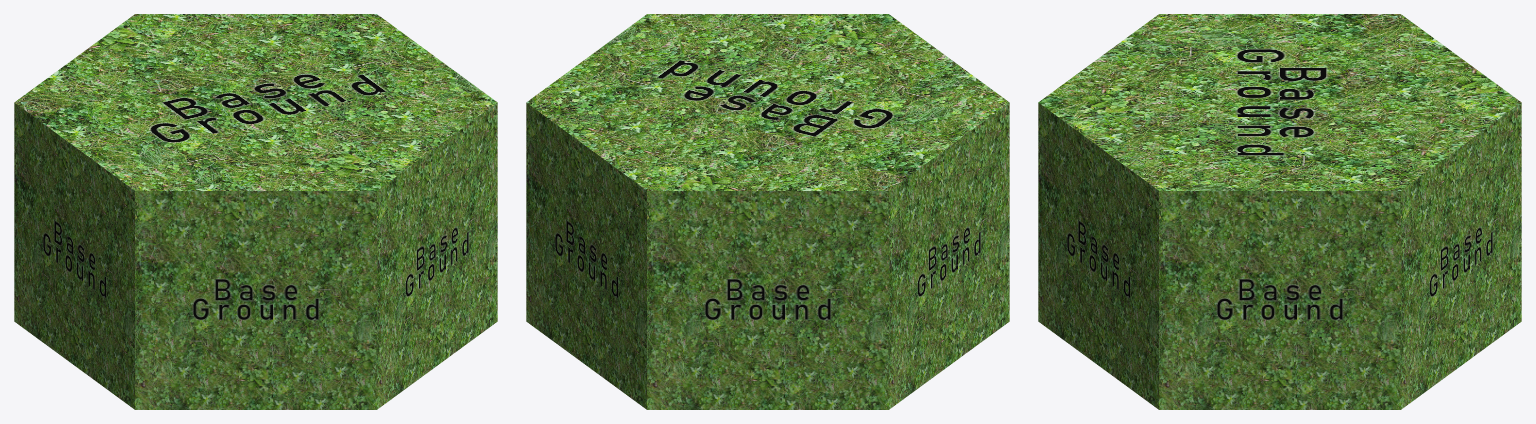
Rendered from Tile_Base_Ground.fbx.
The picture shows the model from 3 angles, left to right: view 1: azimuth 30°, elevation 25°; view 2: azimuth 150°, elevation 25°; view 3: azimuth 270°, elevation 25°; orthographic projection.
Visible parts, largest first — view 1: Tile_Base_Ground; view 2: Tile_Base_Ground; view 3: Tile_Base_Ground.
Boxes of the visible parts, box(x1,y1,x2,y2) form: Tile_Base_Ground: box(14, 14, 497, 409); Tile_Base_Ground: box(526, 14, 1009, 409); Tile_Base_Ground: box(1038, 14, 1521, 409).
Size of the model in its own units: 1.73 by 1 by 2.
